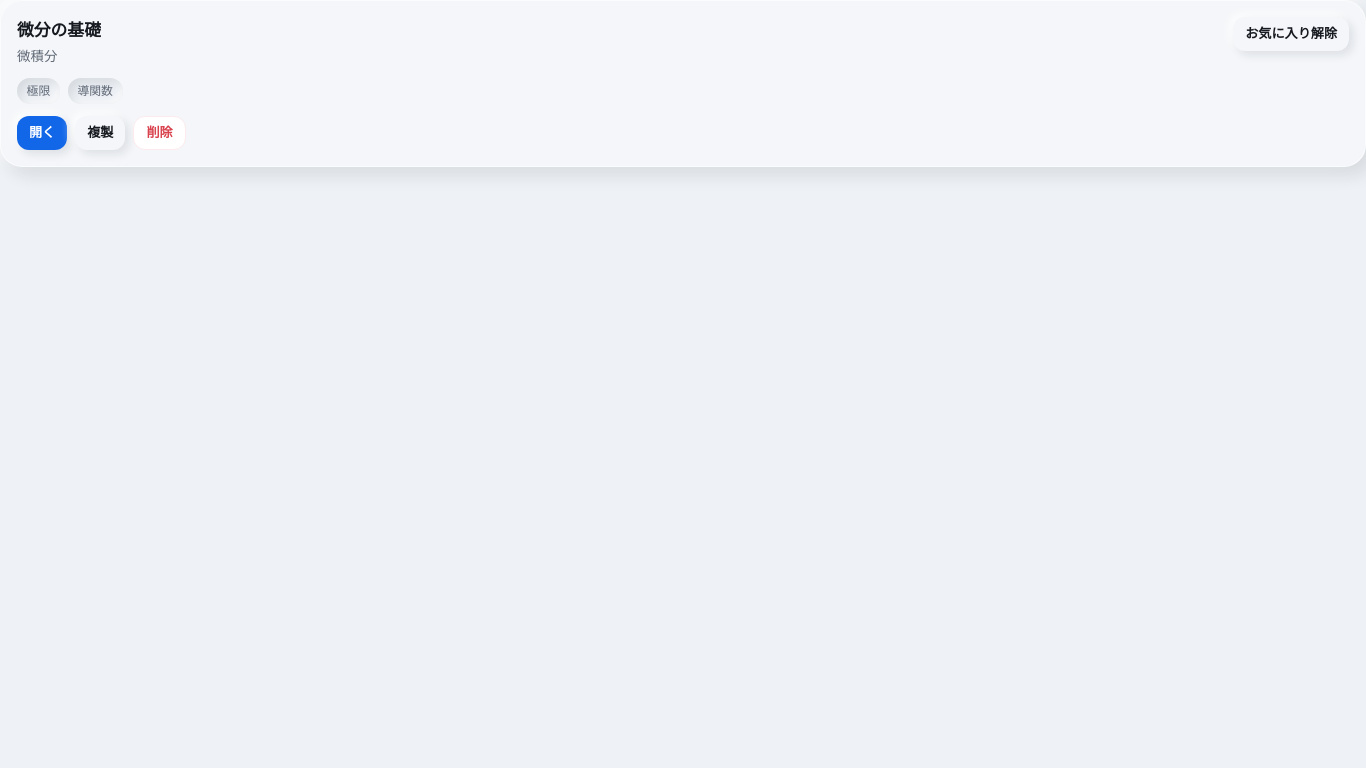
Test: NoteCard › 削除ボタンでは対象ノートの確認だけを開く
This screenshot has width=1366, height=768.
Click the button with test id "delete-note".
click(160, 133)  # box left=134, top=116, right=186, bottom=150
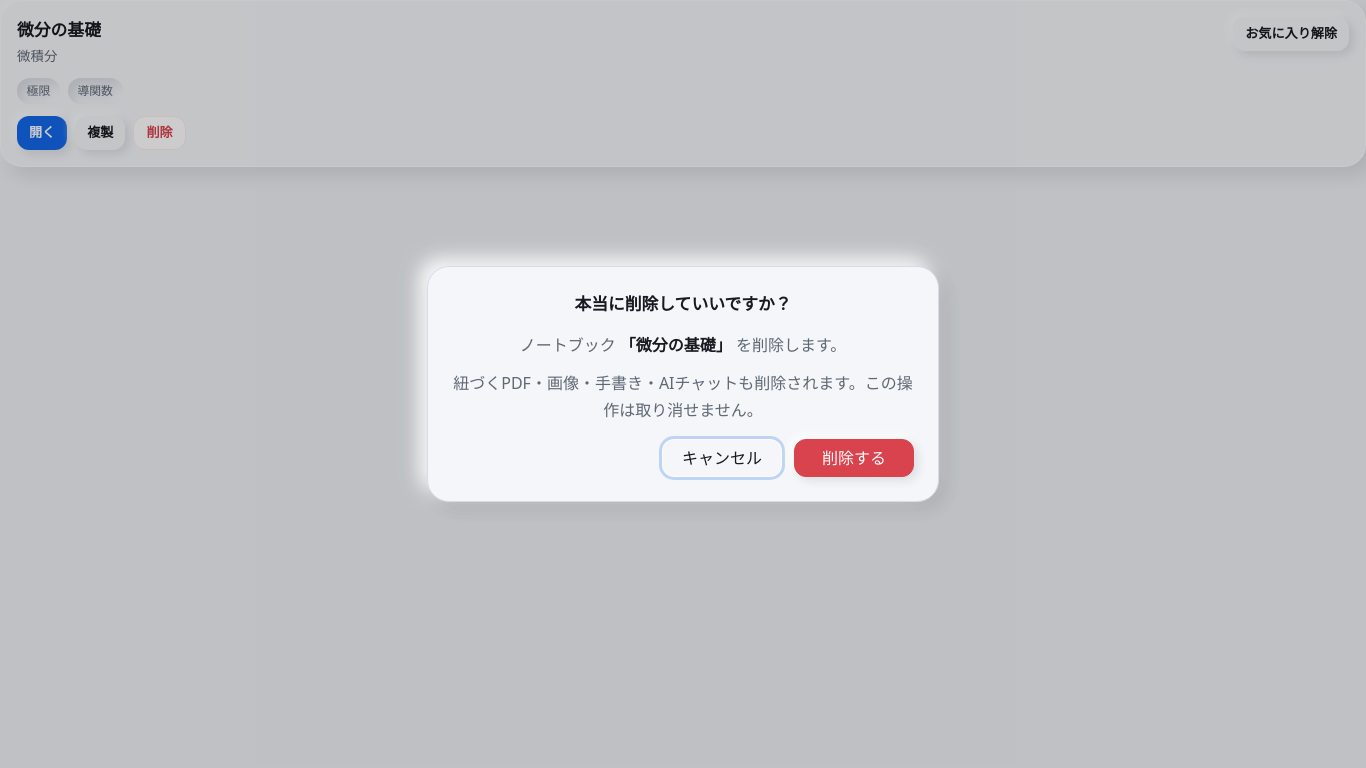
expect the dialog is shown: met
expect the element with class "note-delete-confirm-dialog__content" shows "微分の基礎": met, box left=620, top=334, right=732, bottom=356
